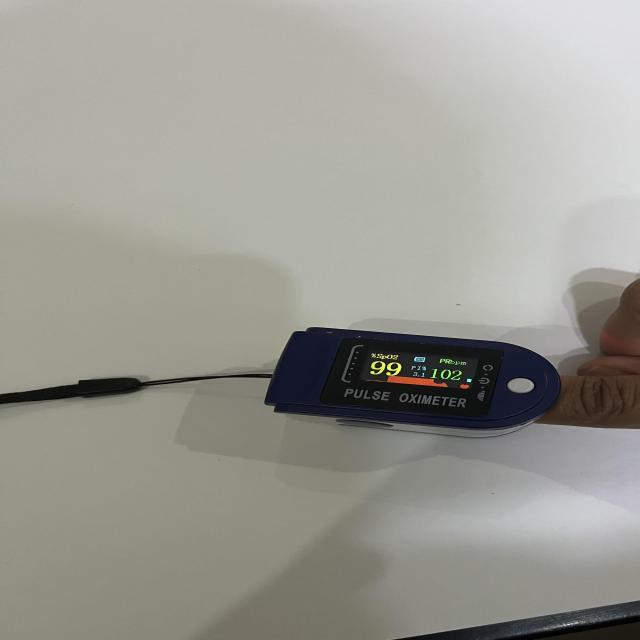spo2: (266, 329, 561, 433)
